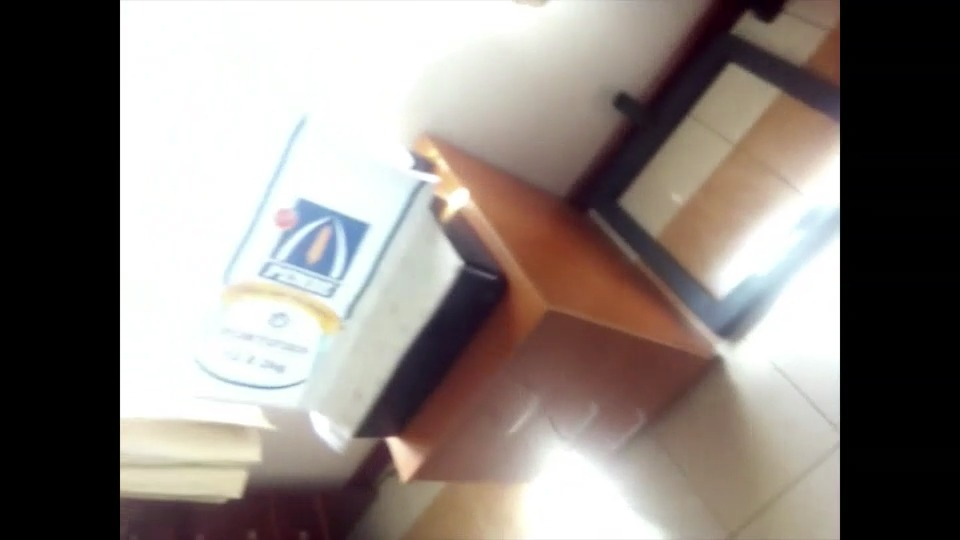maize_flour_green_label: (182, 113, 433, 388)
